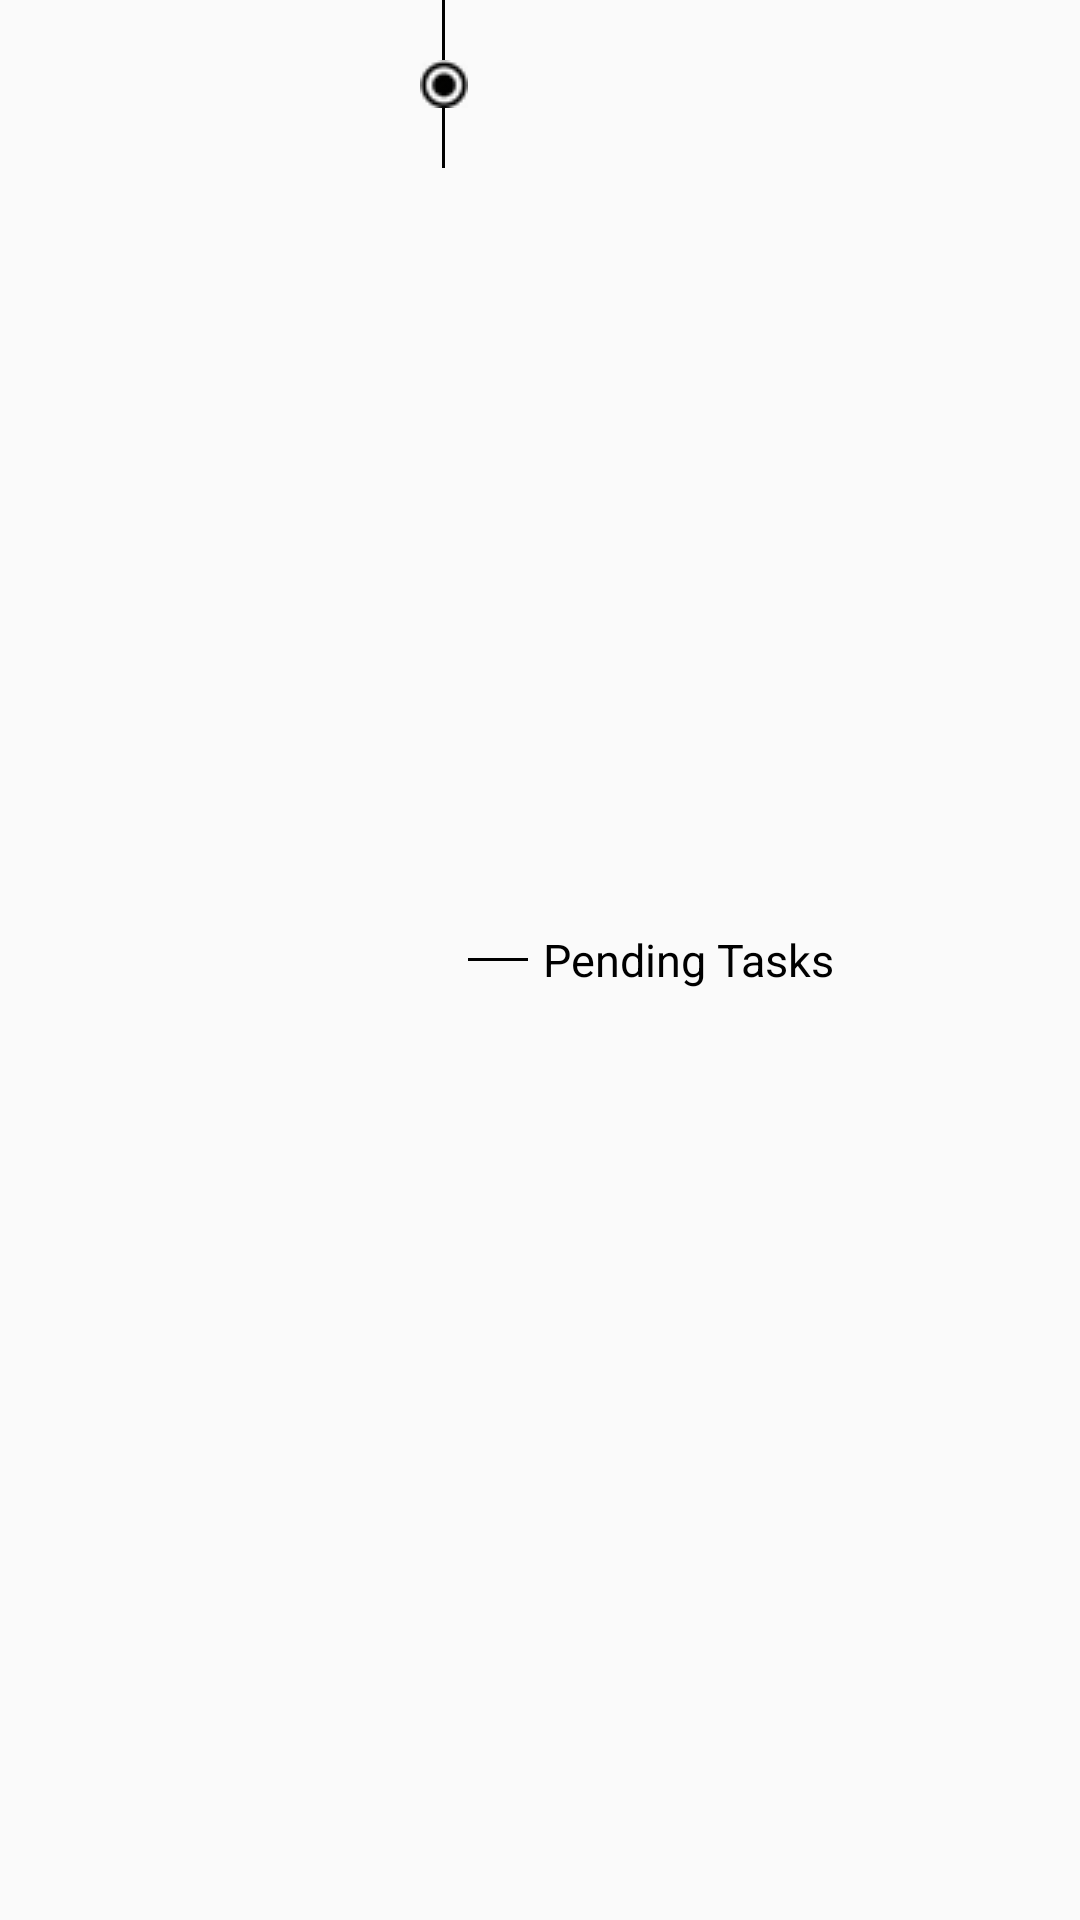

Screen size 1080px x 1920px. Icon name, then its center in pixels as [x,y]:
radio: [444,84]
